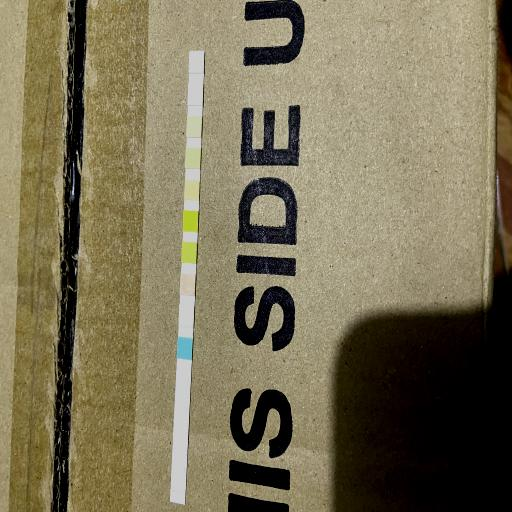Bilirubin: (180, 306, 194, 326)
Blood: (184, 211, 196, 231)
Glucose: (178, 339, 192, 358)
Ketone: (180, 275, 194, 295)
Leukocytes: (190, 54, 203, 72)
Nitrite: (188, 85, 202, 105)
Protein: (186, 148, 200, 167)
SpGravity: (183, 242, 196, 262)
Urobilinogen: (187, 118, 201, 136)
pH: (186, 180, 198, 199)
strip: (171, 52, 204, 504)
